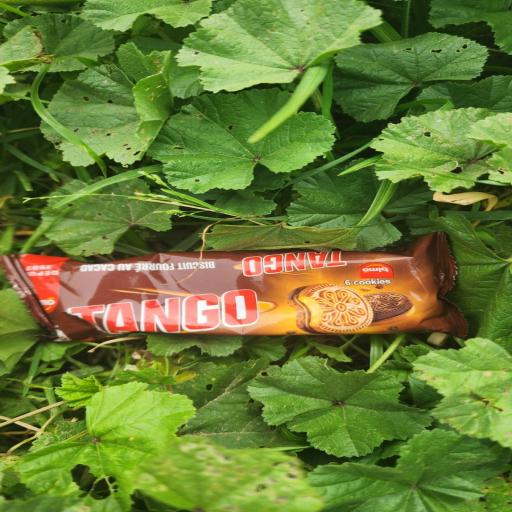tango: (12, 215, 486, 422)
